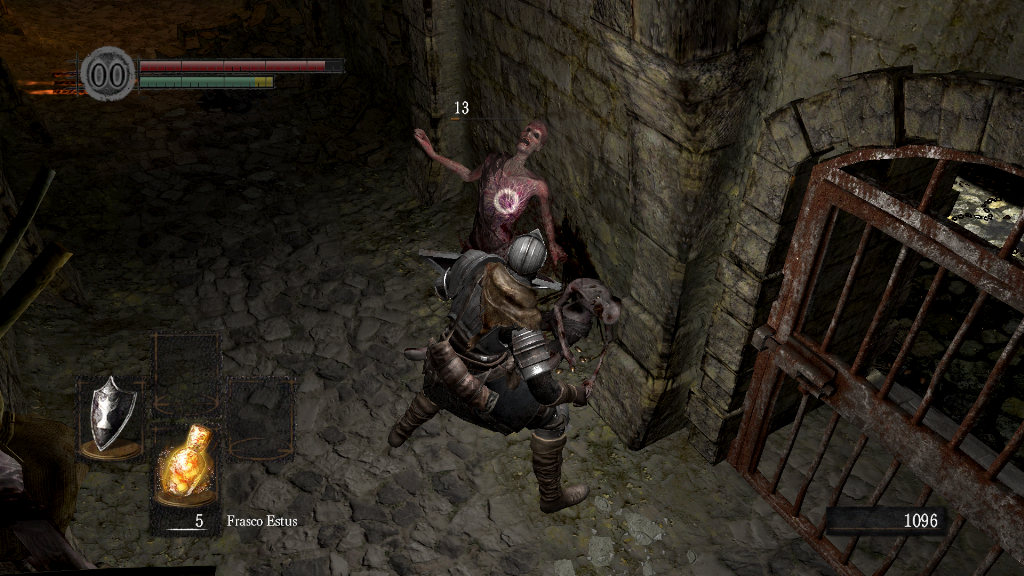health: (138, 58, 343, 71)
hollow: (409, 116, 572, 274)
humanity: (80, 45, 136, 102)
player: (387, 227, 590, 514)
souls: (825, 506, 945, 536)
stamina: (138, 74, 274, 88)
